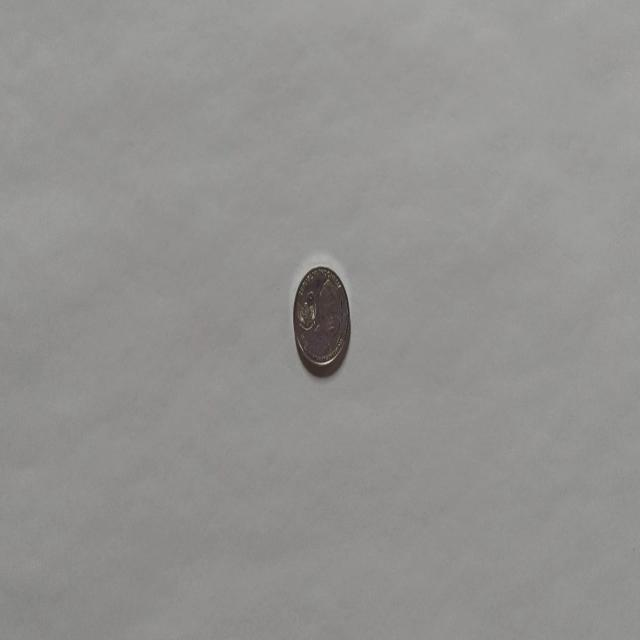dua ratus rupiah: (291, 263, 351, 374)
